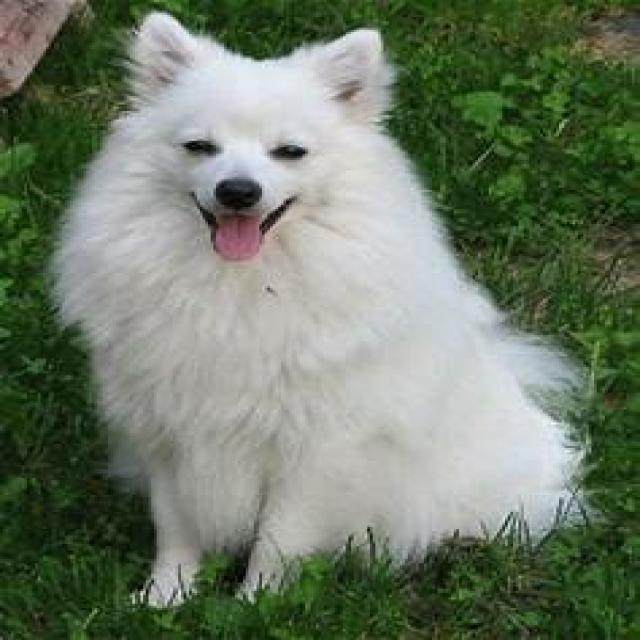dog: (46, 13, 591, 608)
